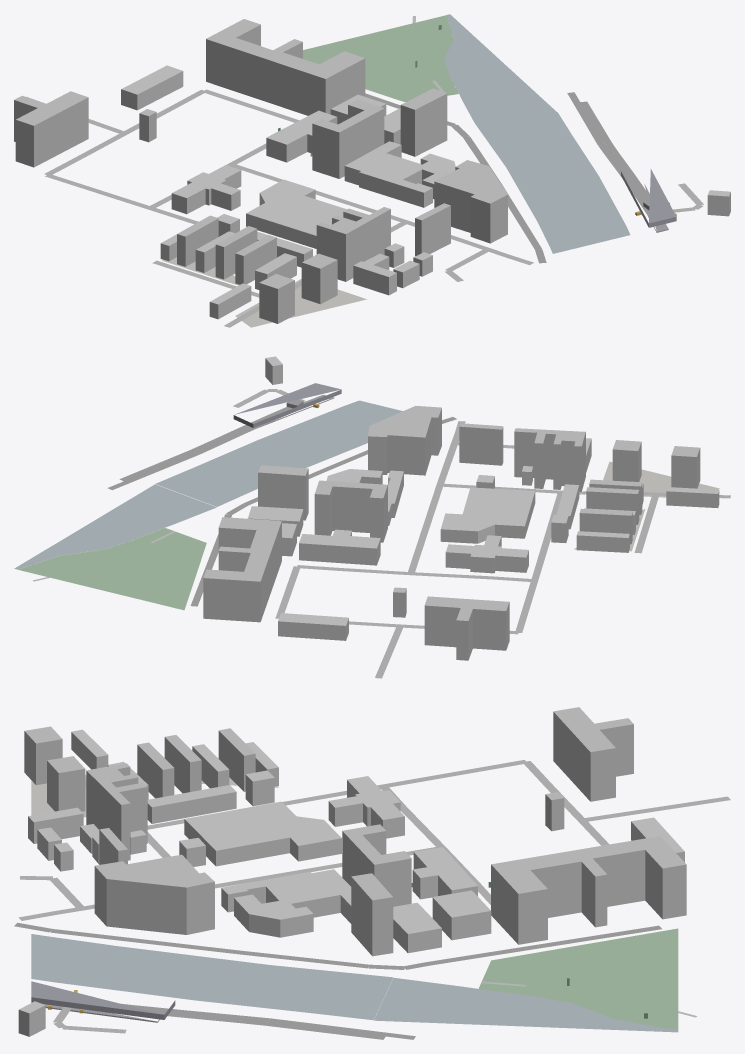
3 renders of one model, top to bottom at view 1: azimuth 30°, elevation 25°; view 2: azimuth 150°, elevation 25°; view 3: azimuth 270°, elevation 25°, orthographic. The views are drawn at different scales.
Size of the model in its own units: 535 by 52.72 by 554.
